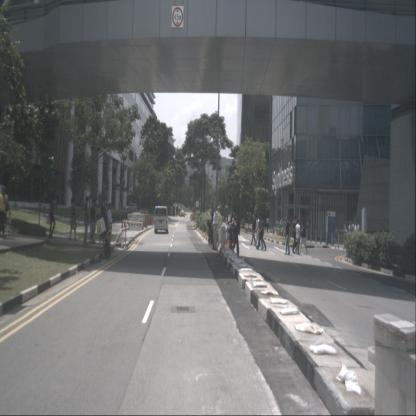barrier: (217, 225, 226, 252), (128, 217, 144, 230), (222, 222, 227, 231), (150, 216, 154, 225), (190, 214, 193, 222)
cone: (280, 228, 283, 237), (277, 228, 280, 236), (272, 227, 275, 235), (142, 222, 144, 230), (121, 220, 123, 228), (144, 222, 146, 230)
